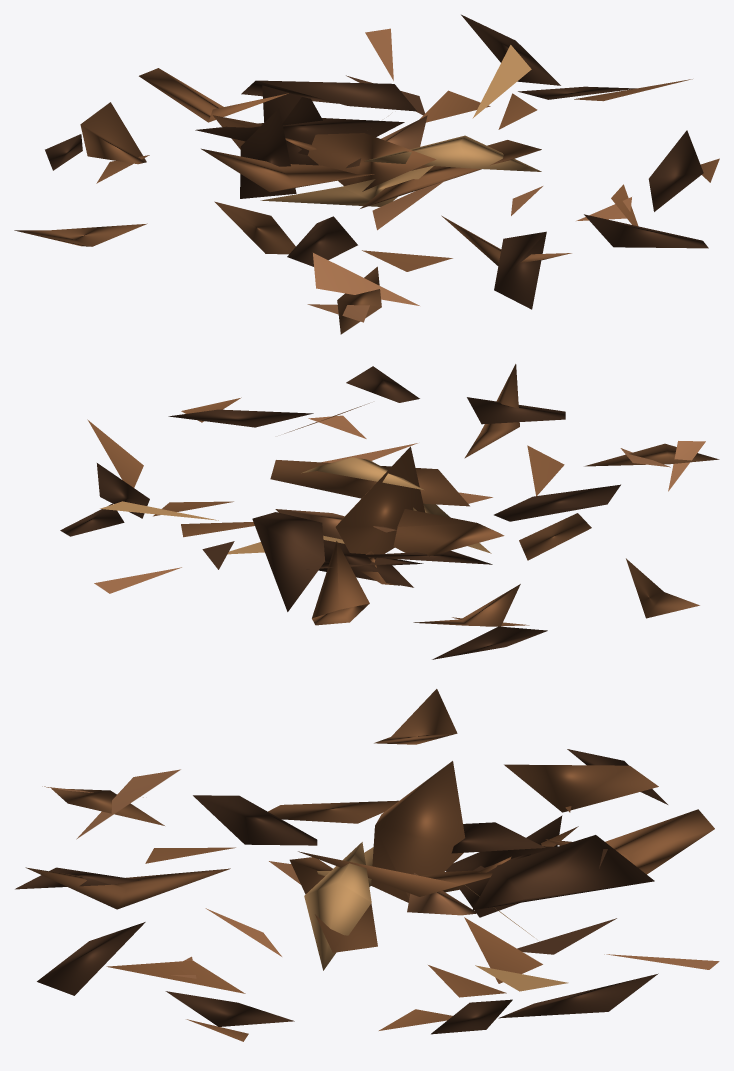
File: canopy_gc_bark_bits_b_lod2.glb
3 renders of one model, top to bottom at view 1: azimuth 30°, elevation 25°; view 2: azimuth 150°, elevation 25°; view 3: azimuth 270°, elevation 25°, orthographic. The views are drawn at different scales.
Parts seen in each view (by area): view 1: canopy_gc_bark_bits_b.001; view 2: canopy_gc_bark_bits_b.001; view 3: canopy_gc_bark_bits_b.001.
Part boxes in pixels (bbox=[...]): canopy_gc_bark_bits_b.001: bbox=[14, 14, 719, 334]; canopy_gc_bark_bits_b.001: bbox=[60, 364, 719, 659]; canopy_gc_bark_bits_b.001: bbox=[15, 689, 719, 1041].
Size of the model in its own units: 5.95 by 0.4668 by 4.99.
